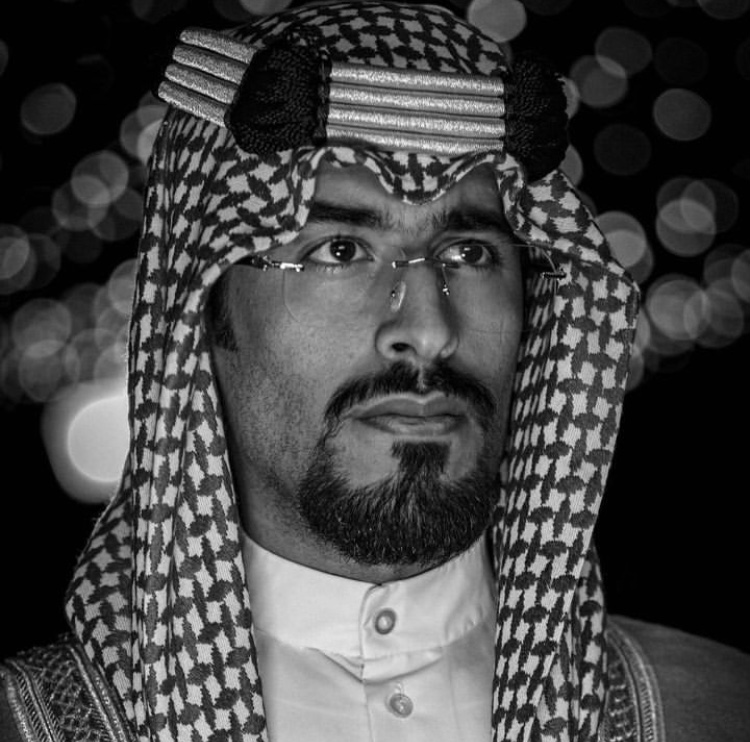Saudi_Founding_Day: (3, 6, 750, 742)
